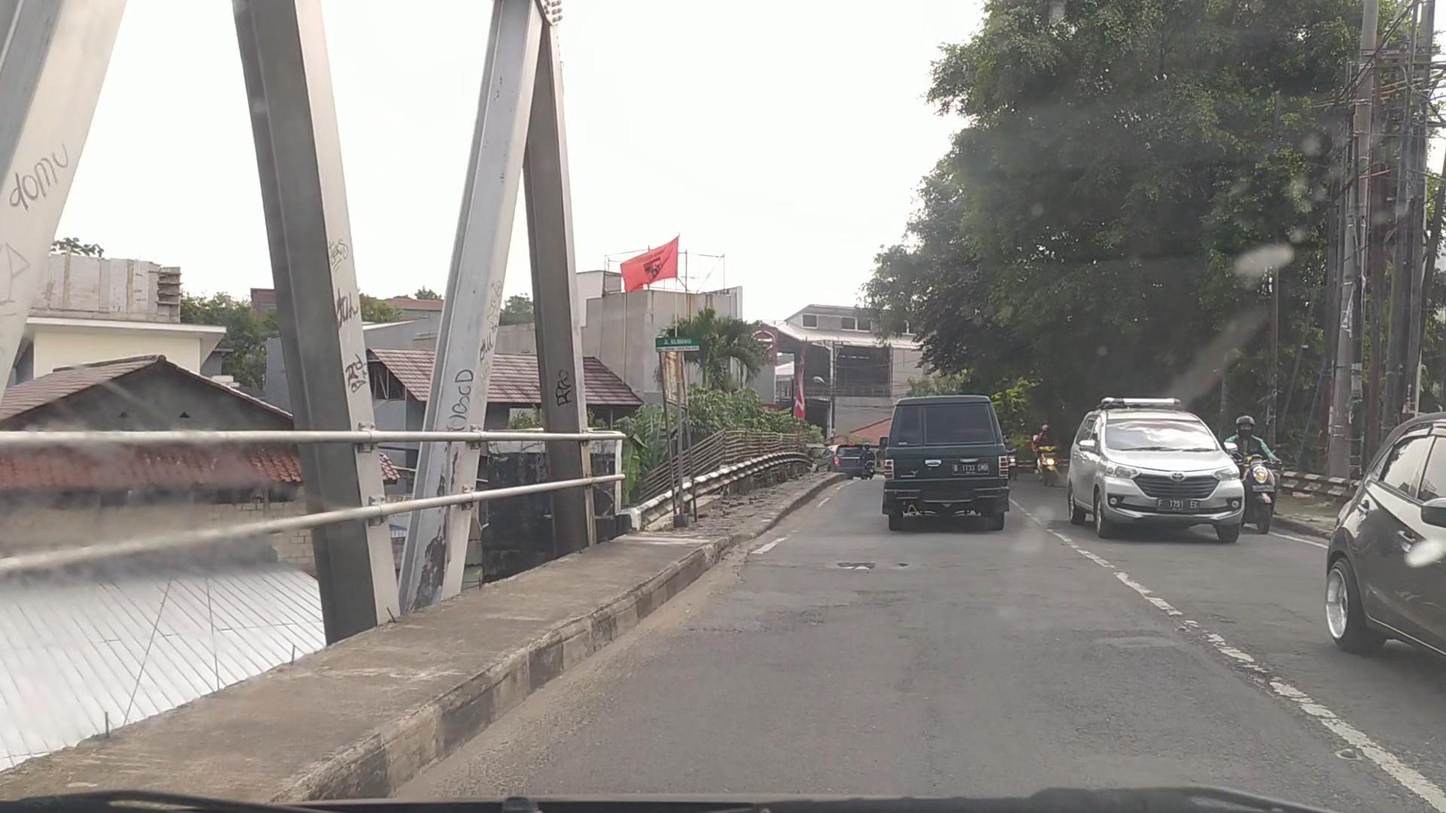pothole: (837, 561, 877, 570)
